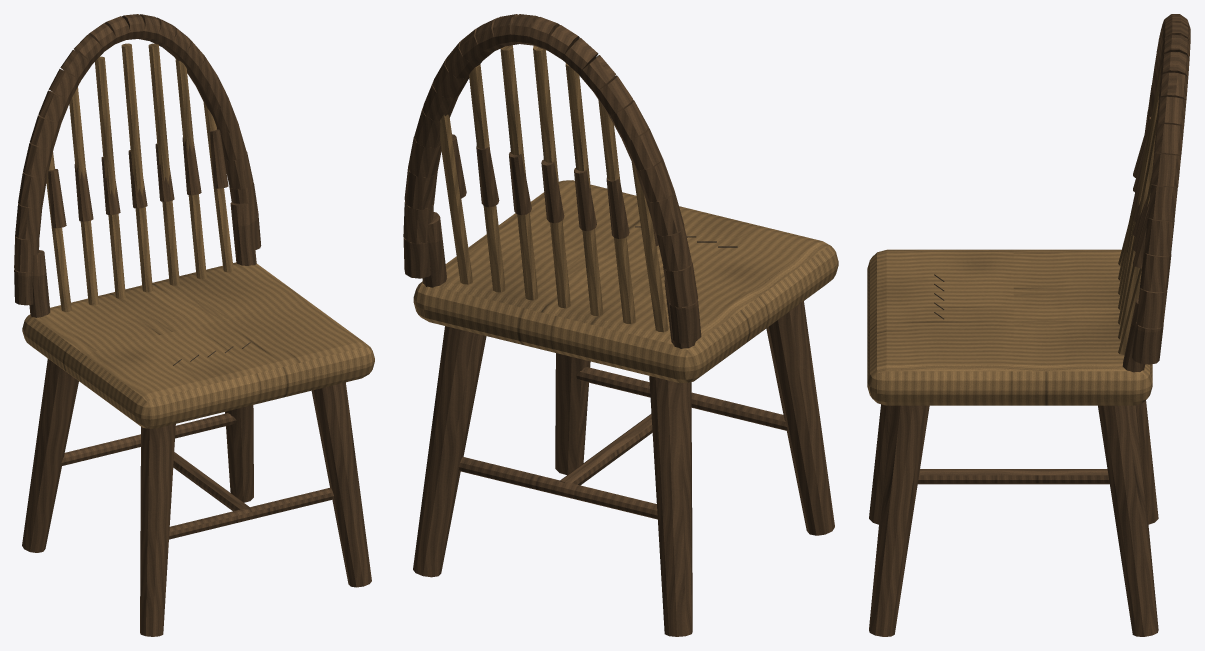
The model's file is chair_dining_spindle.glb.
3 views of the same model, side by side, from view 1: azimuth 30°, elevation 25°; view 2: azimuth 150°, elevation 25°; view 3: azimuth 270°, elevation 25° (orthographic). The views are drawn at different scales.
Parts seen in each view (by area): view 1: F04_chair_dining_spindle; view 2: F04_chair_dining_spindle; view 3: F04_chair_dining_spindle.
Part boxes in pixels (x1=…): F04_chair_dining_spindle: x1=14, y1=14, x2=374, y2=636; F04_chair_dining_spindle: x1=403, y1=14, x2=838, y2=636; F04_chair_dining_spindle: x1=867, y1=14, x2=1190, y2=636.
Size of the model in its own units: 0.4941 by 0.9658 by 0.51.
3 materials, 3 textured.
